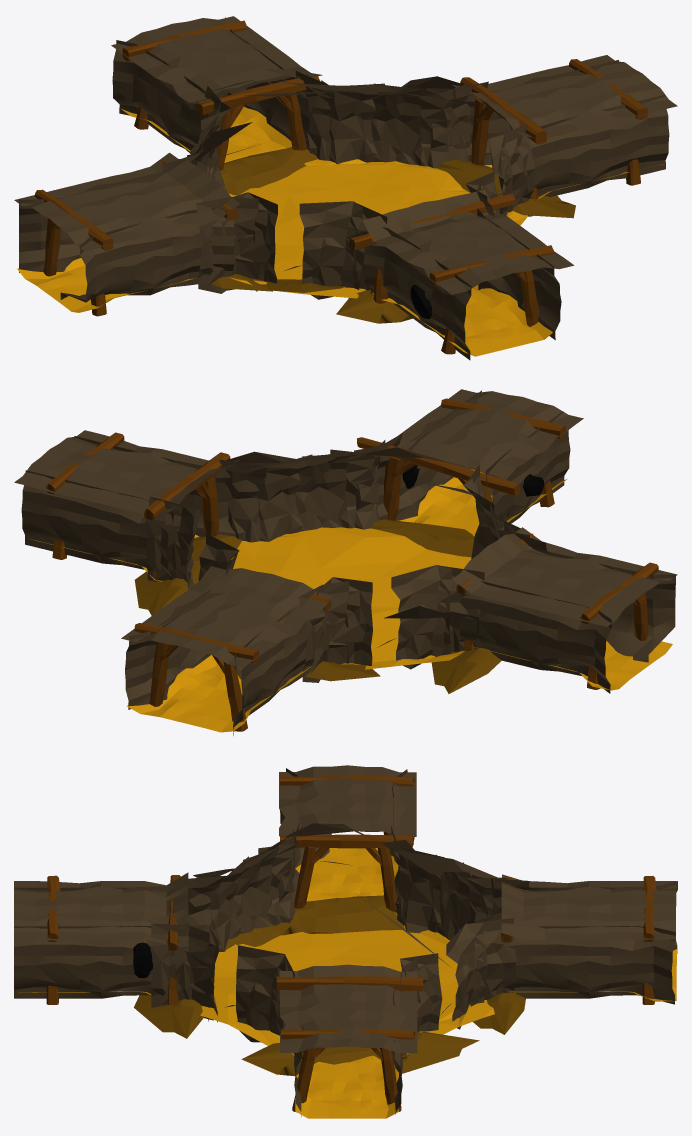
Rendered from hub.fbx.
3 renders of one model, top to bottom at view 1: azimuth 30°, elevation 25°; view 2: azimuth 150°, elevation 25°; view 3: azimuth 270°, elevation 25°, orthographic. The views are drawn at different scales.
Visible parts, largest first — view 1: Plane.012, Plane.015, Cylinder, Plane.000, Plane.006, Plane.011, Plane.005, Plane.004, Plane.007, Plane.002, Plane.010, Floor (+21 smaller); view 2: Cylinder, Plane.014, Plane.013, Plane.011, Plane.006, Plane.000, Plane.005, Plane.008, Plane.003, Floor.003, Plane.012, Plane.010 (+19 smaller); view 3: Cylinder, Plane.009, Plane.005, Plane.011, Plane.000, Plane.014, Plane.006, Plane.001, Plane.015, Plane.012, Plane.013, Floor.001 (+15 smaller).
Part boxes in pixels (x1,y1,x2,y2): Plane.012: (295,71,488,168); Plane.015: (195,192,387,299); Cylinder: (229,159,527,298); Plane.000: (362,189,574,294); Plane.006: (14,152,239,251); Plane.011: (111,16,322,104); Plane.005: (452,55,677,137); Plane.004: (517,95,669,196); Plane.007: (60,207,234,302); Plane.002: (363,227,471,360); Plane.010: (112,40,207,153); Floor: (372,285,552,356); Cylinder: (231,527,471,669); Plane.014: (219,433,402,542); Plane.013: (298,565,484,682); Plane.011: (121,566,332,667); Plane.006: (452,527,677,626); Plane.000: (372,389,583,479); Plane.005: (14,430,239,514); Plane.008: (459,581,611,693); Plane.003: (21,470,173,579); Floor.003: (127,655,311,732); Plane.012: (145,496,239,589); Plane.010: (233,604,325,735); Cylinder: (200,913,494,1045); Plane.009: (501,926,675,1004); Plane.005: (279,964,417,1053); Plane.011: (501,874,676,940); Plane.000: (14,872,188,943); Plane.014: (150,923,294,1042); Plane.006: (279,765,416,836); Plane.001: (14,926,153,998); Plane.015: (178,821,299,951); Plane.012: (400,918,516,1061); Plane.013: (391,825,528,940); Floor.001: (292,1053,409,1118).
Bounding box in the file's own units: 1651 × 373 × 1643.
